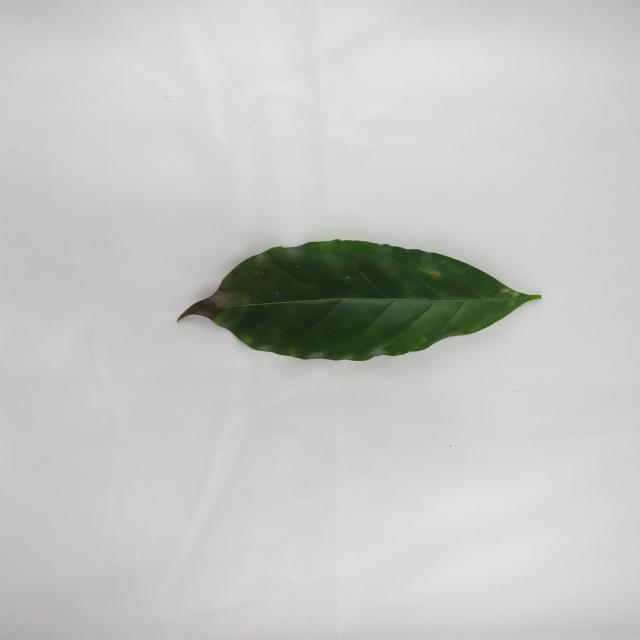DeficienciaNutricional-Potasio: (180, 240, 540, 361)
